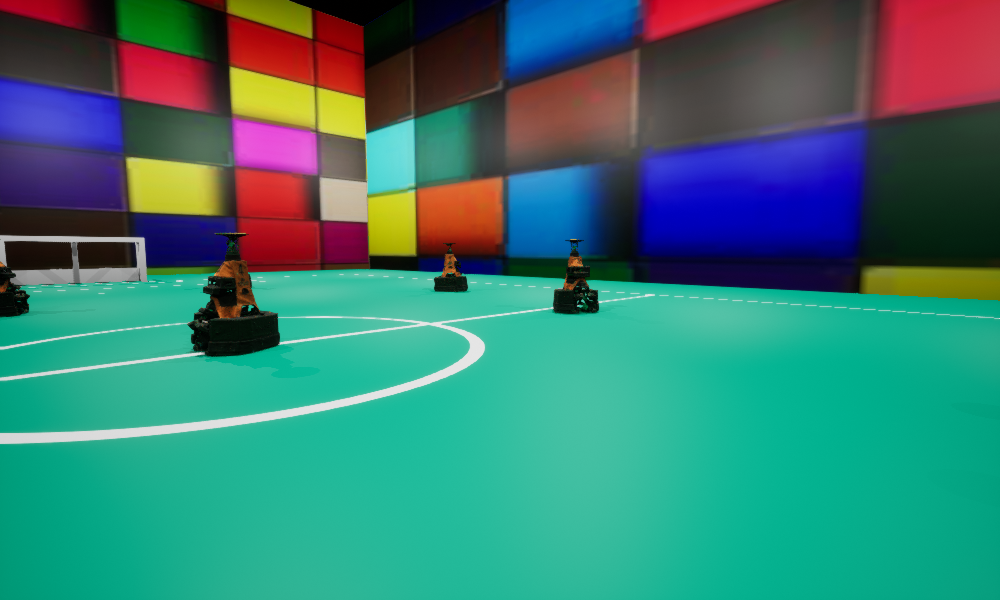0 orange robot TechUnited: (187, 233, 279, 354), (553, 239, 598, 313), (0, 239, 29, 316), (434, 243, 467, 291), (226, 243, 251, 289)
